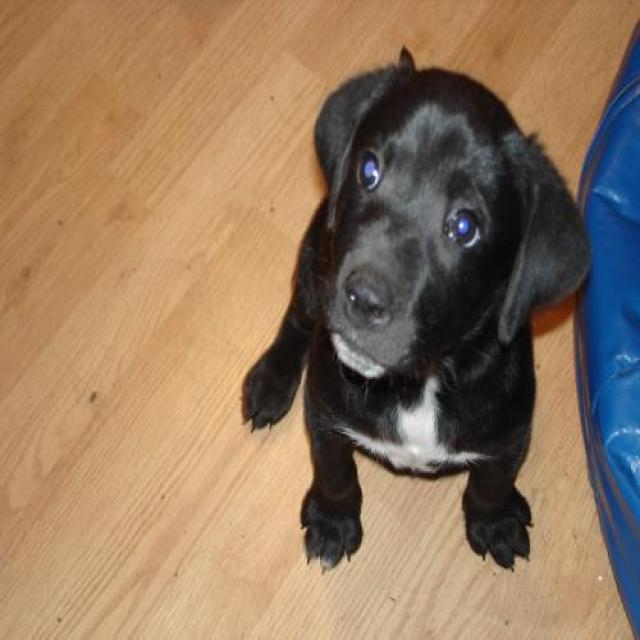dogs: (241, 44, 592, 574)
